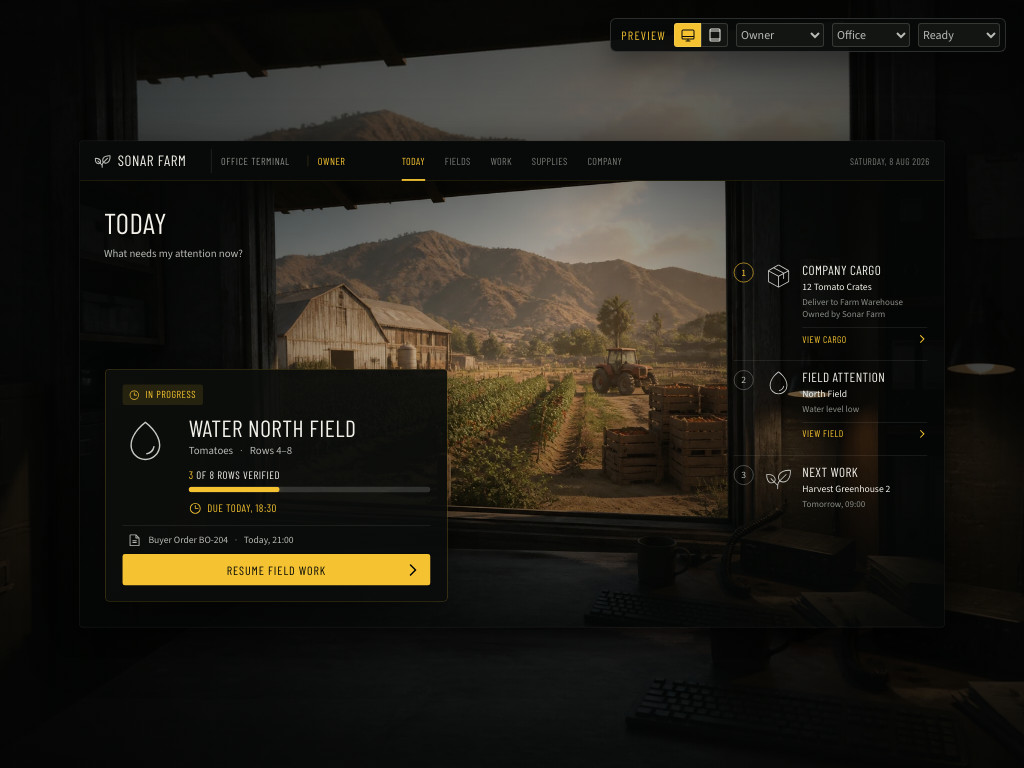
Test: Farm Business Hub › redirects when a live role change removes the active route
Step 1. Select "visitor" in the dropdown named "Preview role" → [780, 35], box [736,23,824,47]
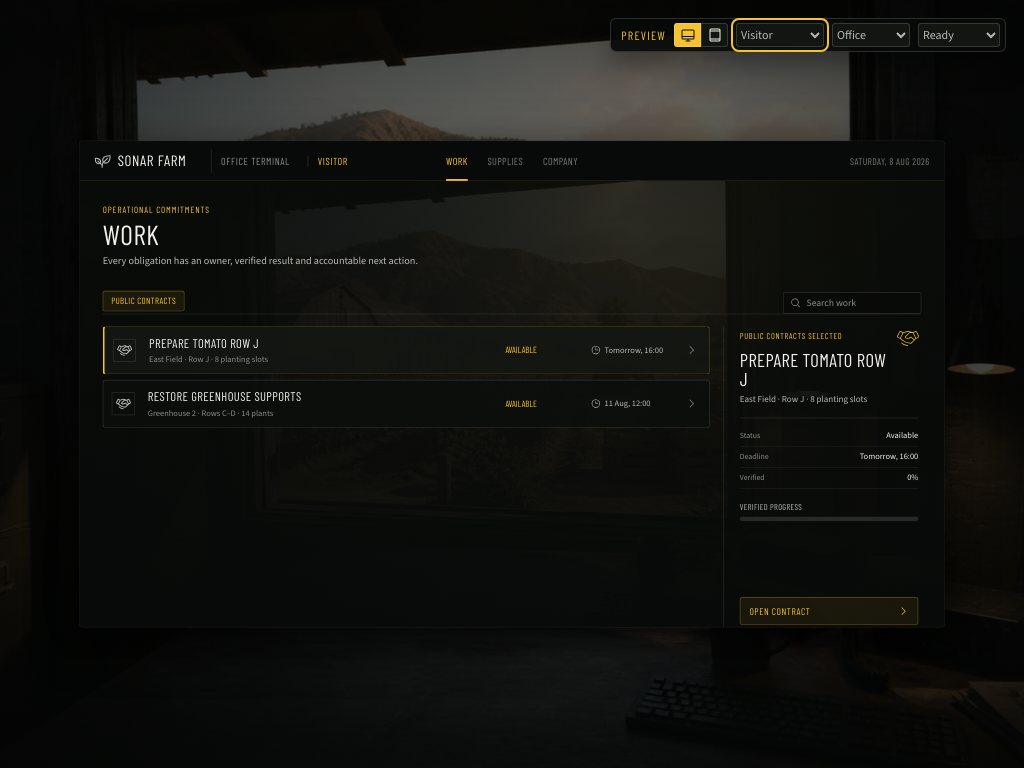
Expected: the heading "Work" is shown, [103,217,159,250]
Expected: the link "Today" is gone
Expected: the link "Fields" is gone
